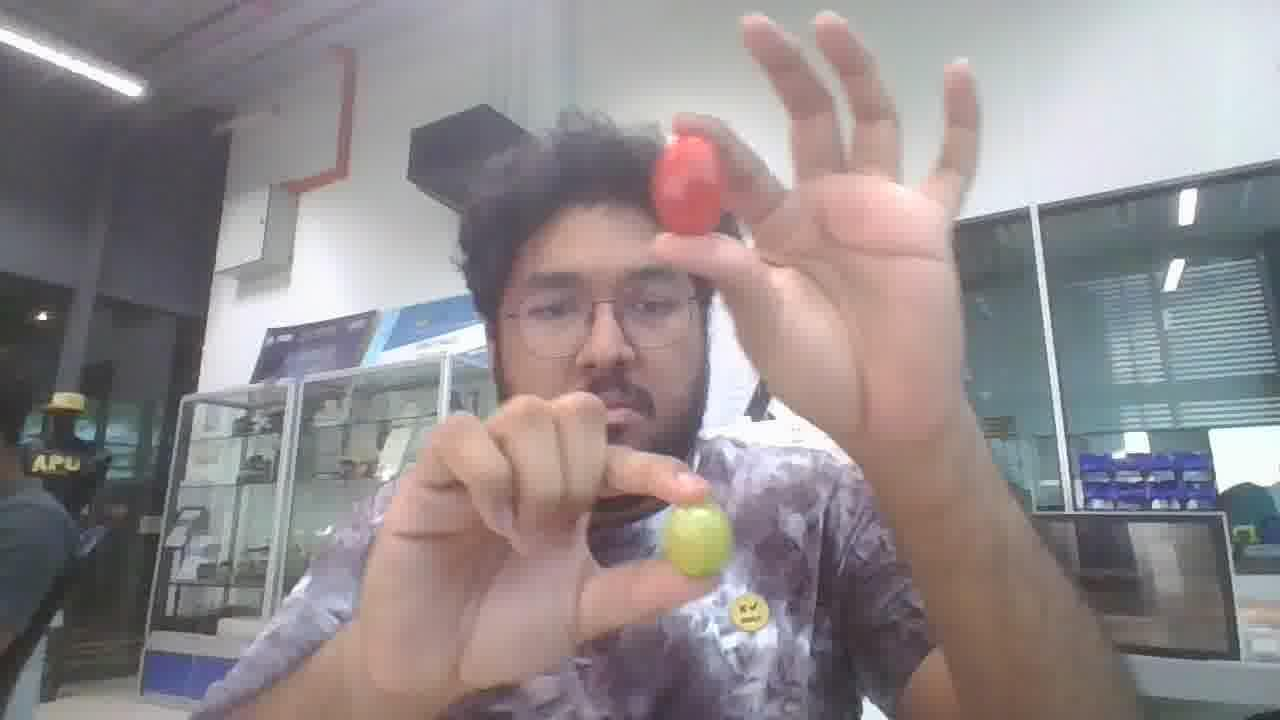green_cherry_tomato: (662, 500, 732, 577)
red_cherry_tomato: (651, 135, 726, 235)
